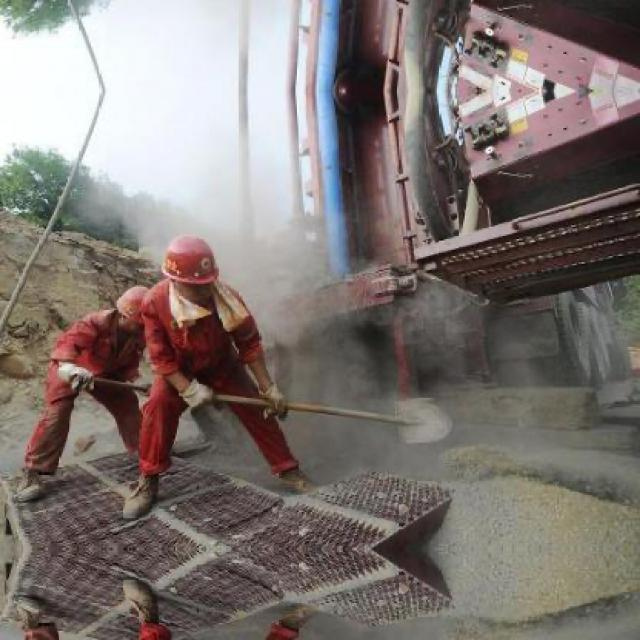helmet: (162, 230, 223, 308), (112, 282, 158, 335)
